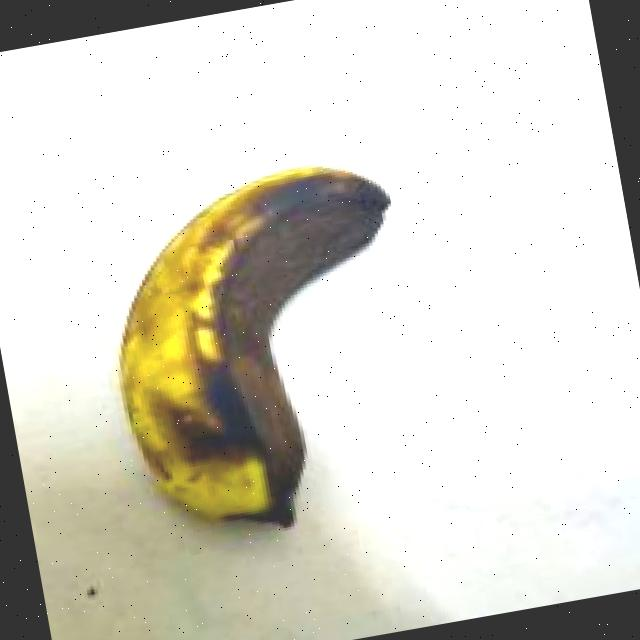Rotten: (60, 98, 469, 574)
